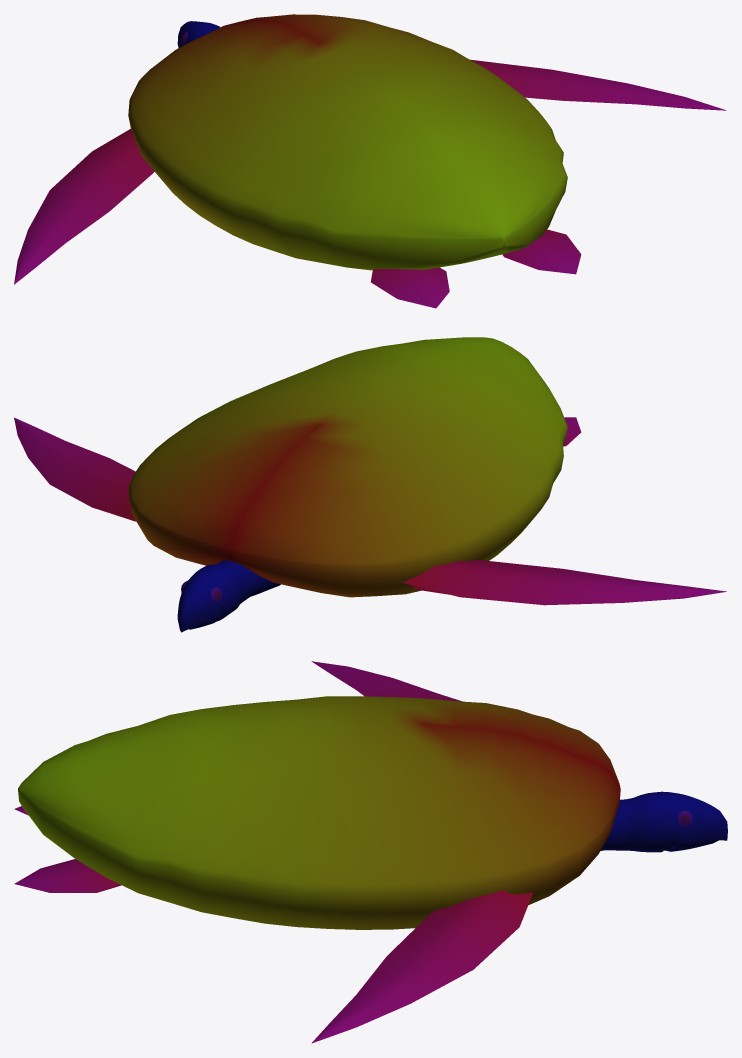
The model's file is sea_turtle_hawksbill_lo.glb.
The picture shows the model from 3 angles, top to bottom: view 1: azimuth 30°, elevation 25°; view 2: azimuth 150°, elevation 25°; view 3: azimuth 270°, elevation 25°; orthographic projection. The views are drawn at different scales.
Visible parts, largest first — view 1: sea_turtle_hawksbill_lo; view 2: sea_turtle_hawksbill_lo; view 3: sea_turtle_hawksbill_lo.
Part boxes in pixels (<box>): sea_turtle_hawksbill_lo: <box>14,14,726,308</box>; sea_turtle_hawksbill_lo: <box>14,337,726,632</box>; sea_turtle_hawksbill_lo: <box>14,661,727,1043</box>.
Size of the model in its own units: 1.35 by 0.24 by 1.07.
